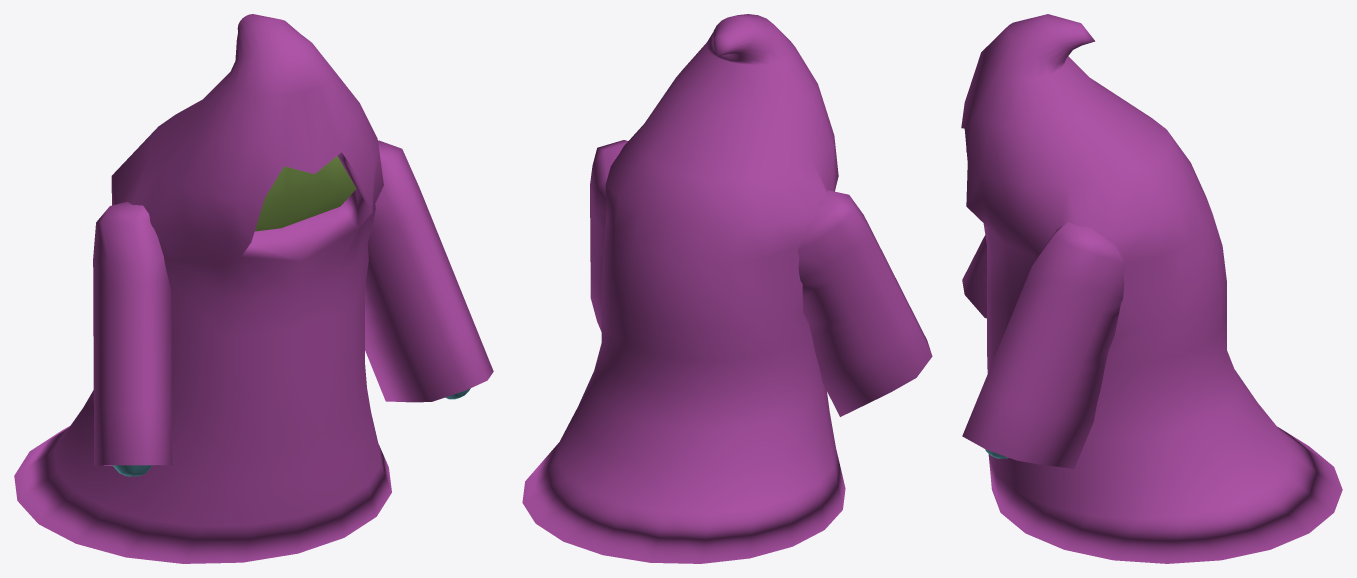
File: cloaked dude 2.fbx
3 views of the same model, side by side, from view 1: azimuth 30°, elevation 25°; view 2: azimuth 150°, elevation 25°; view 3: azimuth 270°, elevation 25° (orthographic). The views are drawn at different scales.
Visible parts, largest first — view 1: polySurface4, polySurface6, polySurface8, polySurface5; view 2: polySurface4, polySurface8, polySurface6; view 3: polySurface4, polySurface6, polySurface8.
Boxes of the visible parts, x1,y1,x2,y2 form: polySurface4: [14, 14, 391, 563]; polySurface6: [365, 140, 493, 402]; polySurface8: [93, 201, 172, 465]; polySurface5: [254, 156, 356, 231]; polySurface4: [522, 14, 845, 563]; polySurface8: [797, 190, 932, 416]; polySurface6: [590, 140, 627, 331]; polySurface4: [961, 14, 1342, 563]; polySurface6: [962, 222, 1126, 468]; polySurface8: [962, 235, 986, 318].
Size of the model in its own units: 88.87 by 113 by 82.71.
